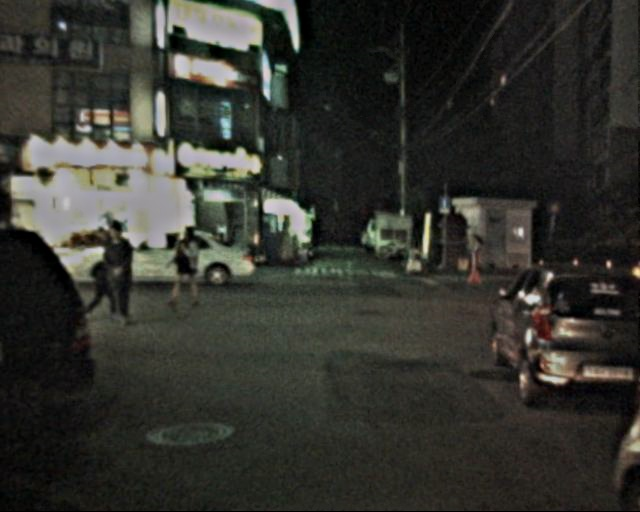person: (97, 224, 139, 326), (170, 223, 208, 312), (462, 226, 481, 275)
